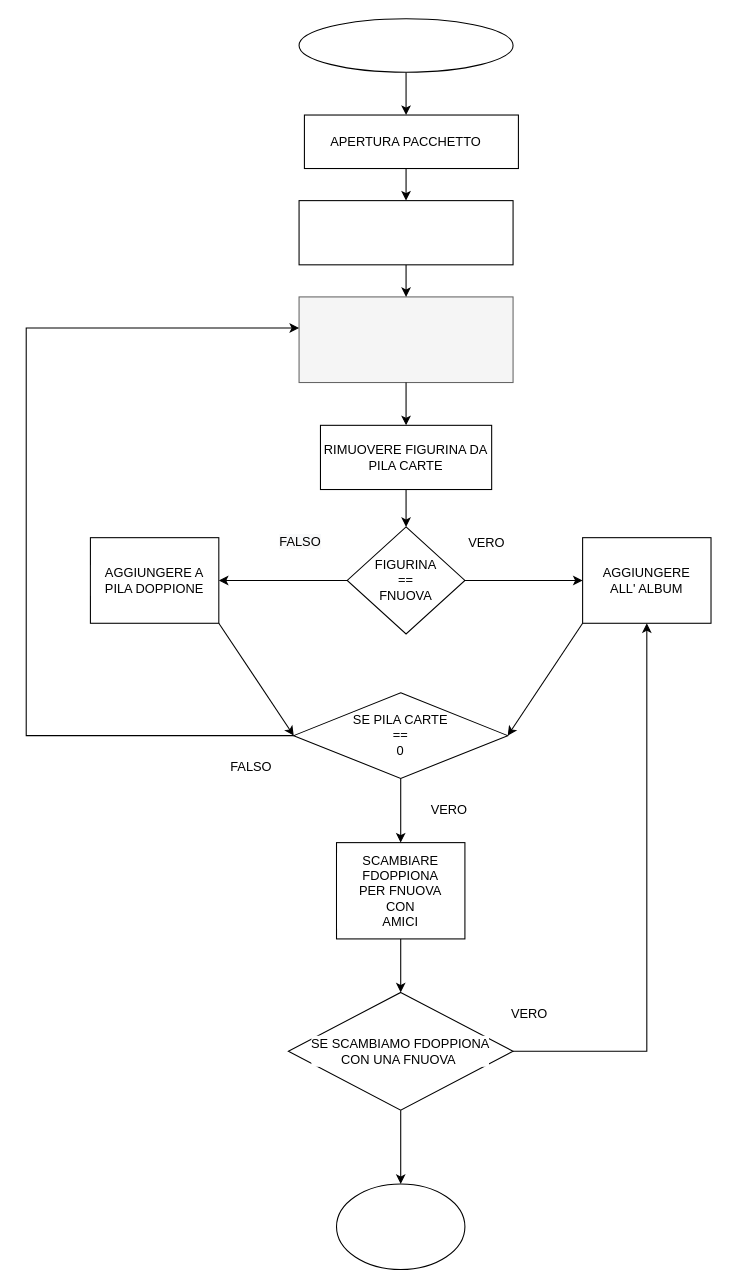
This 730x1288 diagram has some shape labels left out. The shapes that lost their labels are listed below. From the top down, each one's centre as x and y in pixels, then its label:
the point at 405,45: START
the point at 405,232: CREAZIONE PILA CARTE DA CONTROLLARE
the point at 405,339: ESTRARRE SINGOLARMENTE OGNI CARTA DALLA PILA
the point at 400,1226: FINE
